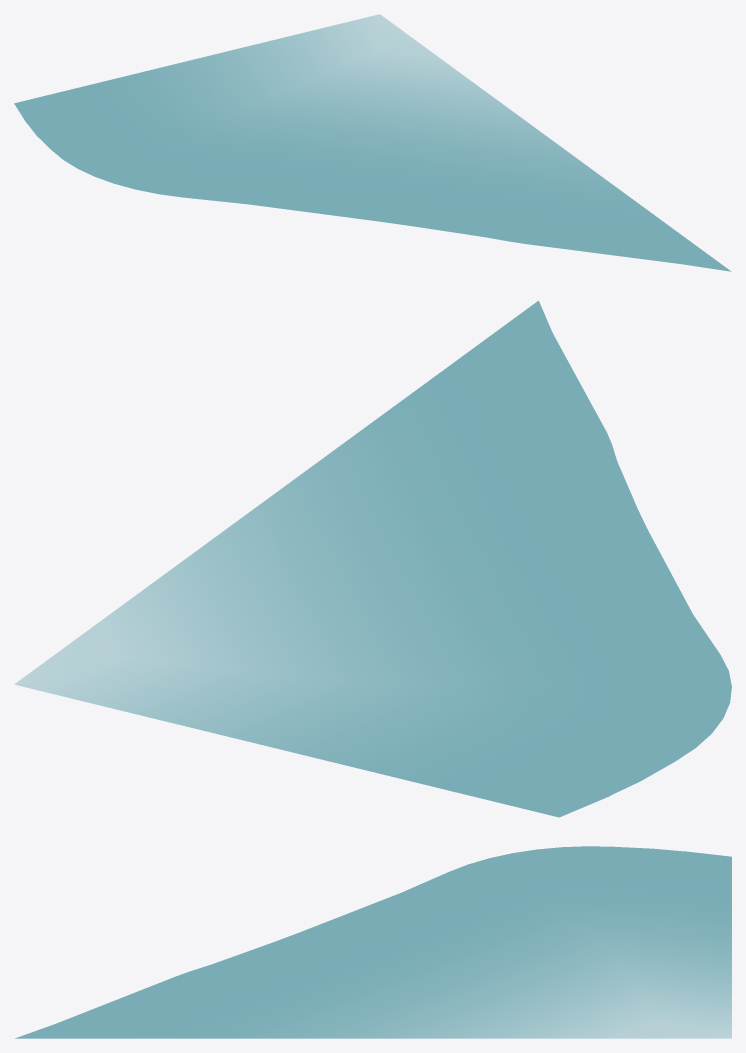
3 views of the same model, one above another, from view 1: azimuth 30°, elevation 25°; view 2: azimuth 150°, elevation 25°; view 3: azimuth 270°, elevation 25° (orthographic). The views are drawn at different scales.
Visible parts, largest first — view 1: city; view 2: city; view 3: city.
Part boxes in pixels (x1,y1,x2,y2): city: (14,14,731,271); city: (14,300,731,817); city: (15,846,731,1038).
Size of the model in its own units: 276 by 0 by 435.
